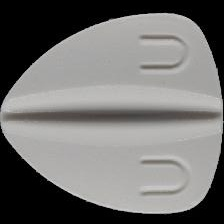29300-113: (0, 0, 224, 224)
